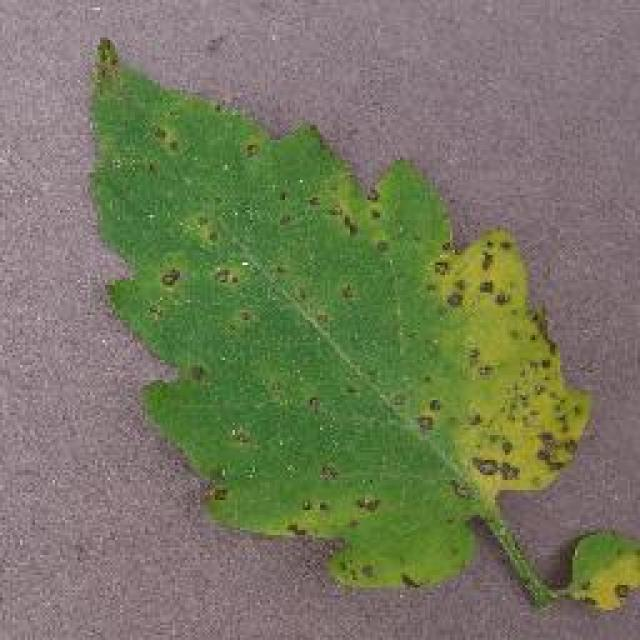Tomato target spot leaf: (80, 38, 590, 592)
